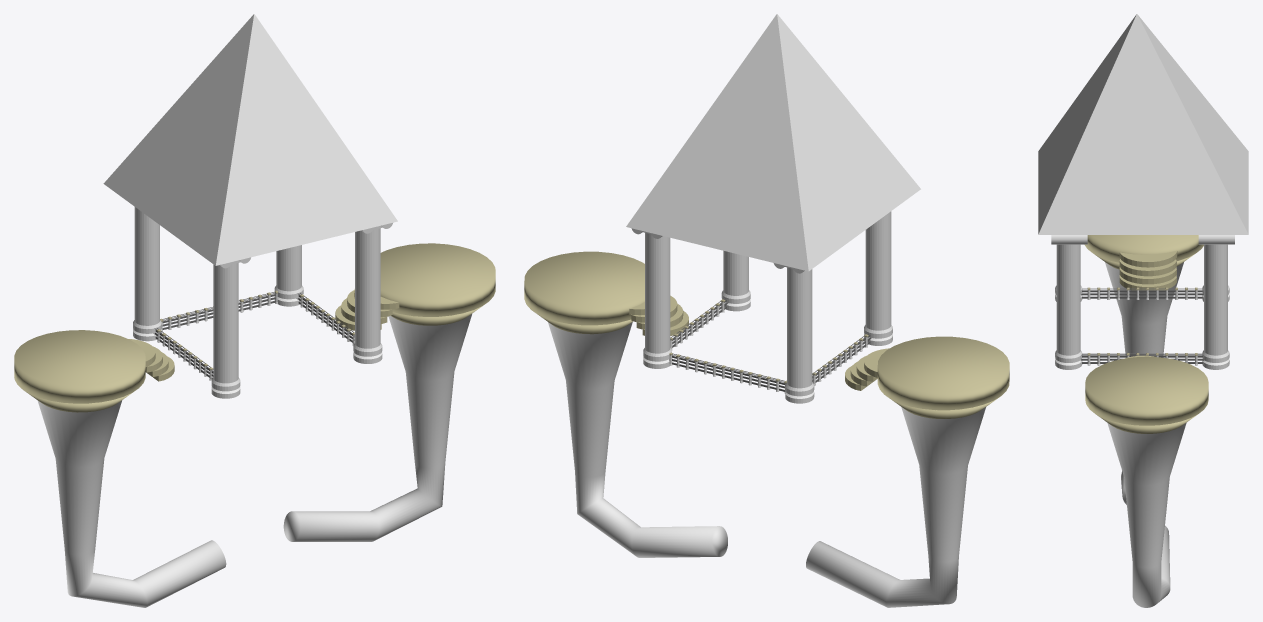
The model's file is Torres 3 CAMBIOS.fbx.
3 renders of one model, left to right at view 1: azimuth 30°, elevation 25°; view 2: azimuth 150°, elevation 25°; view 3: azimuth 270°, elevation 25°, orthographic. The views are drawn at different scales.
Parts seen in each view (by area): view 1: Cube.001, Piso.004, Piso.003, Cylinder.004, Piso.002, Piso.001, Cylinder.002, Cylinder.009, Cylinder.007, Cylinder.006, Cylinder.005; view 2: Cube.001, Piso.003, Piso.004, Cylinder.004, Piso.002, Piso.001, Cylinder.002, Cylinder.009, Cylinder.007, Cylinder.006, Cylinder.005; view 3: Cube.001, Piso.003, Piso.001, Cylinder.004, Piso.004, Piso.002, Cylinder.009, Cylinder.006, Cylinder.005.
Boxes of the visible parts, box(x1,y1,x2,y2) form: Cube.001: box(103, 14, 397, 265); Piso.004: box(25, 391, 226, 607); Piso.003: box(283, 304, 484, 541); Cylinder.004: box(133, 207, 392, 398); Piso.002: box(14, 330, 145, 403); Piso.001: box(380, 243, 495, 316); Cylinder.002: box(160, 290, 278, 331); Cylinder.009: box(129, 339, 174, 381); Cylinder.007: box(335, 289, 399, 330); Cylinder.006: box(153, 328, 213, 380); Cylinder.005: box(296, 293, 354, 345); Cube.001: box(626, 14, 920, 271); Piso.003: box(537, 314, 727, 557); Piso.004: box(806, 381, 1009, 607); Cylinder.004: box(631, 211, 892, 403); Piso.002: box(877, 336, 1009, 410); Piso.001: box(524, 251, 644, 325); Cylinder.002: box(669, 352, 786, 393); Cylinder.009: box(845, 348, 889, 390); Cylinder.007: box(629, 295, 688, 335); Cylinder.006: box(812, 332, 871, 385); Cylinder.005: box(670, 297, 728, 350); Cube.001: box(1038, 14, 1248, 234); Piso.003: box(1097, 414, 1197, 607); Piso.001: box(1085, 356, 1208, 425); Cylinder.004: box(1051, 235, 1234, 369); Piso.004: box(1094, 254, 1194, 504); Piso.002: box(1084, 235, 1203, 262); Cylinder.009: box(1119, 250, 1177, 292); Cylinder.006: box(1081, 287, 1203, 299); Cylinder.005: box(1080, 353, 1204, 365).
Size of the model in its own units: 1300 by 1506 by 543.
